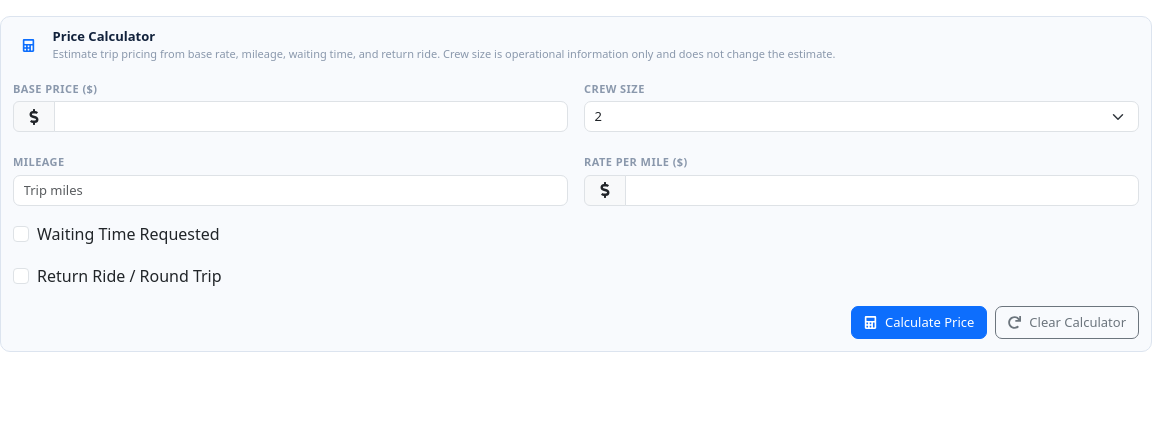
PriceCalculator (component) › shows a clear error for a negative value and no price
The image size is (1152, 427).
Type "-5" into the number field labelled "Base Price ($)" at (311, 117), box [54,101,568,132]
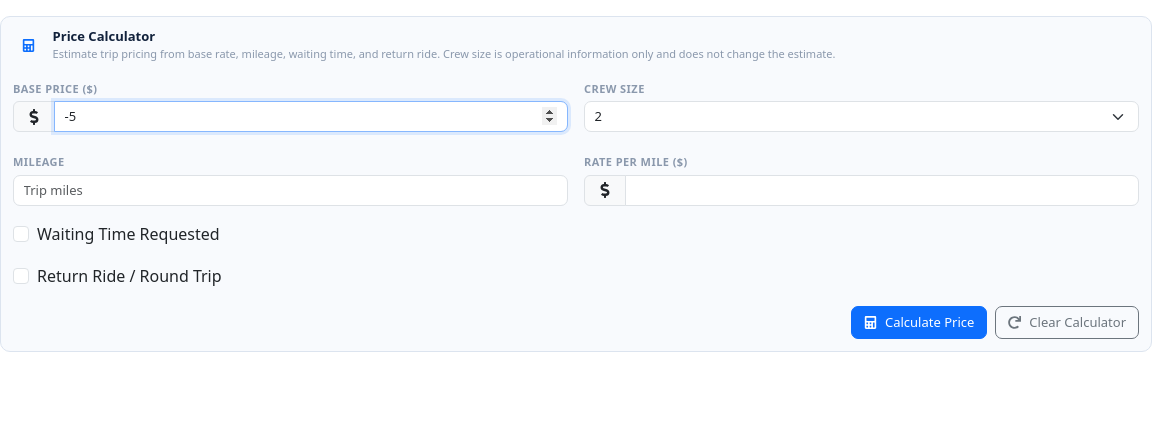
Click the button "Calculate Price" at (919, 323), box [851,306,987,339]
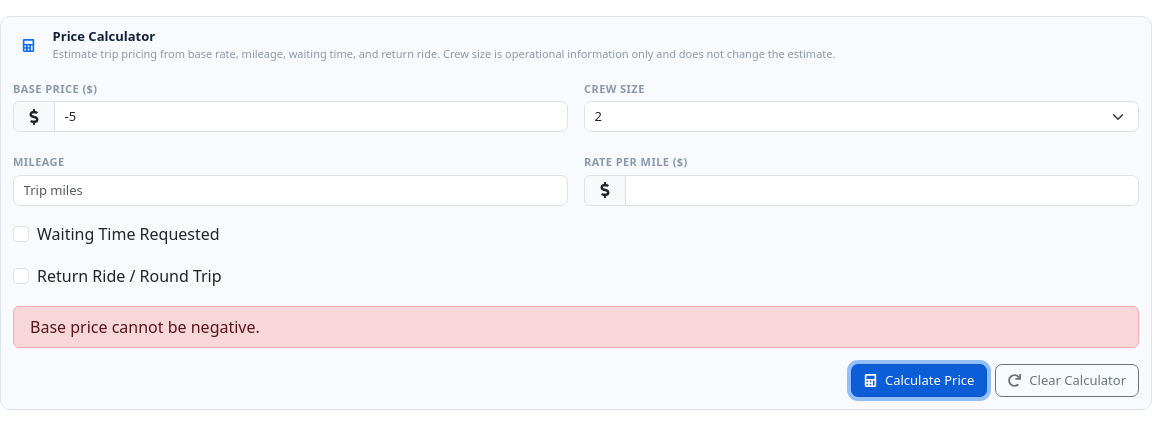
Check: the message shows "cannot be negative", box [30,316,260,338]
